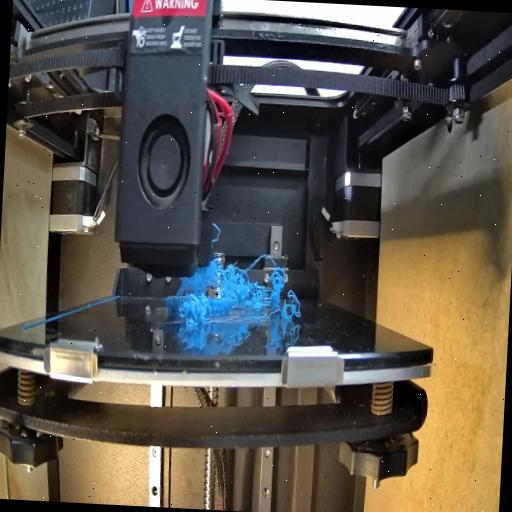spaghetti: (212, 264, 302, 322), (182, 262, 220, 298), (178, 295, 214, 331)
